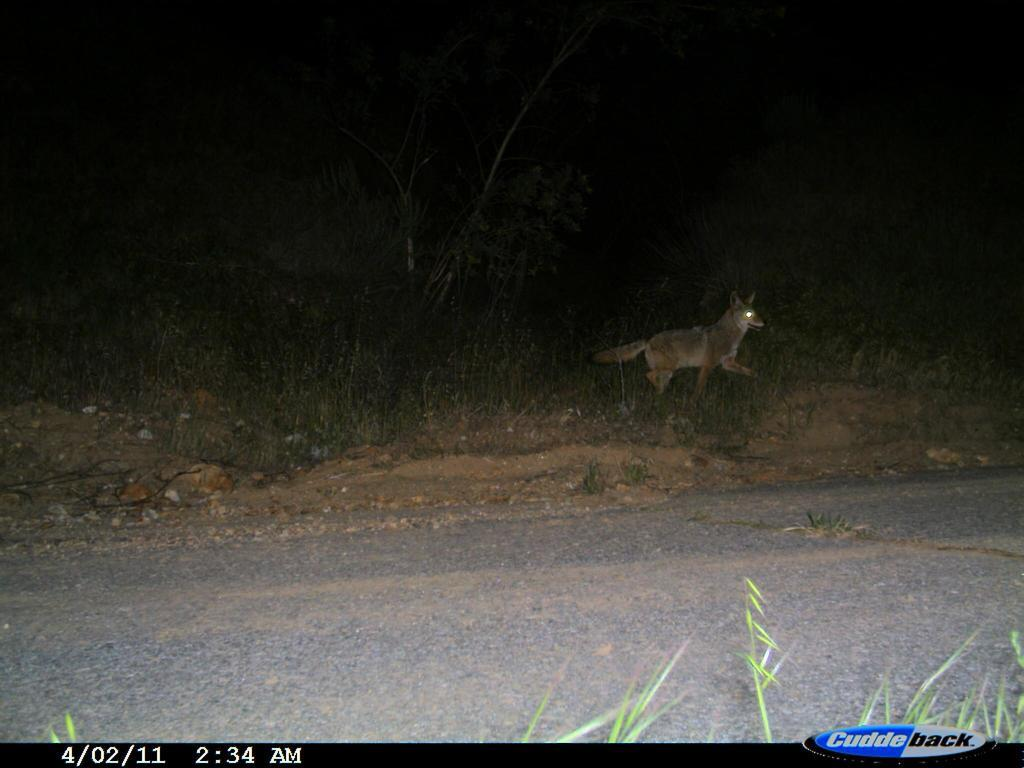coyote: (580, 283, 775, 401)
